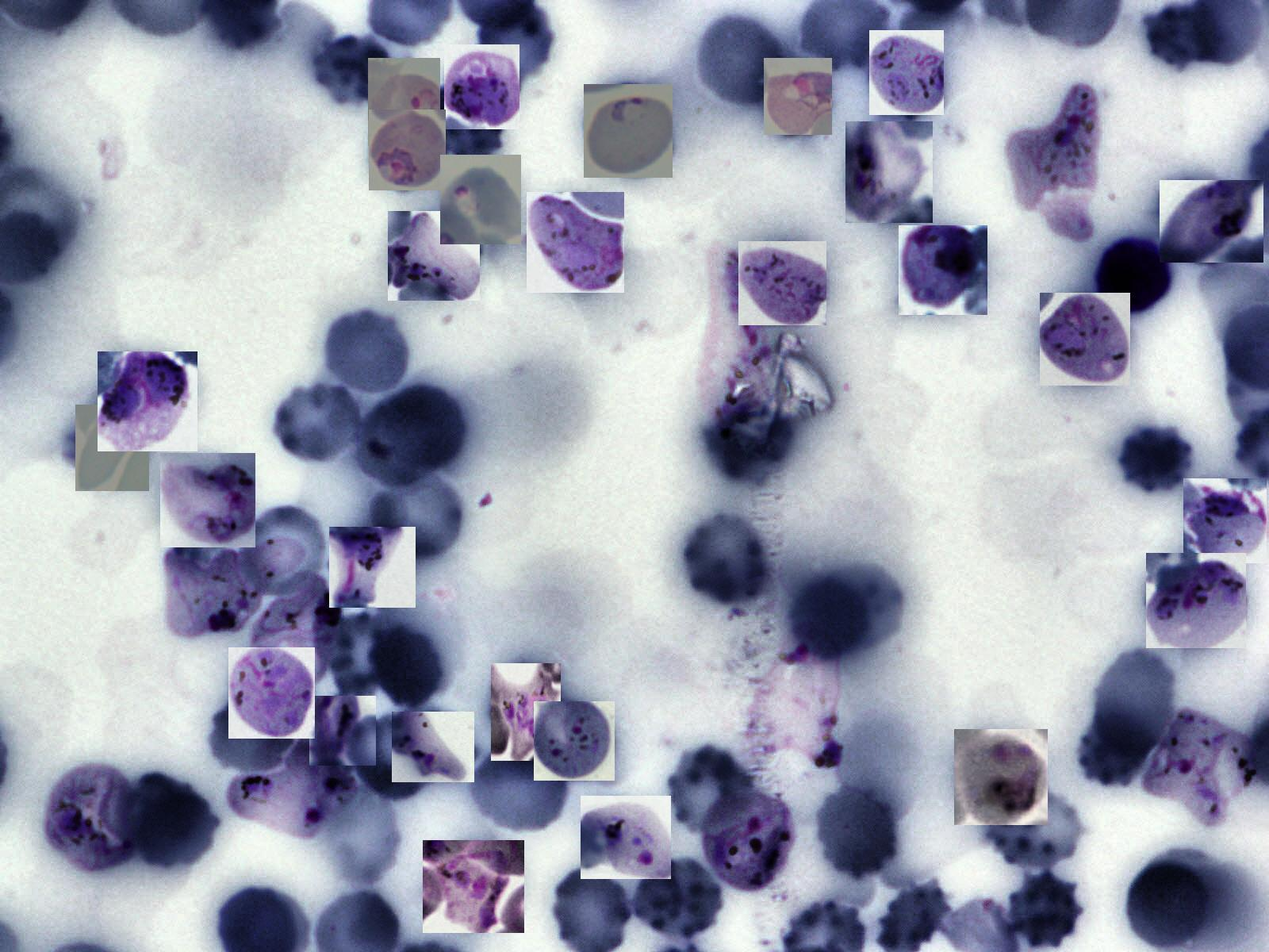Infected: (707, 243, 791, 424), (1006, 81, 1100, 237), (1141, 710, 1265, 827), (748, 624, 845, 771), (227, 741, 363, 842), (165, 541, 298, 643), (697, 784, 799, 896), (251, 570, 343, 693), (40, 766, 143, 875), (98, 351, 197, 451), (527, 192, 624, 293), (1146, 553, 1246, 648), (423, 840, 524, 933), (954, 729, 1048, 825), (845, 121, 933, 223), (160, 453, 255, 547), (1160, 180, 1263, 263), (1040, 293, 1130, 386), (584, 84, 673, 178), (388, 211, 480, 301), (228, 647, 315, 739), (899, 225, 987, 315), (581, 796, 671, 879), (738, 241, 826, 325), (440, 155, 521, 244), (1183, 478, 1267, 563), (329, 527, 416, 608), (491, 663, 561, 761), (534, 701, 615, 781), (869, 30, 944, 115), (75, 405, 149, 491), (444, 45, 519, 129), (369, 58, 440, 146), (369, 109, 446, 190), (392, 712, 474, 782), (764, 58, 832, 135), (309, 696, 376, 766)
Uninfected: (466, 740, 570, 839), (1093, 646, 1179, 761), (124, 771, 220, 873), (811, 782, 903, 881), (236, 501, 322, 605), (680, 509, 773, 604), (697, 10, 783, 112), (664, 744, 756, 839), (369, 470, 466, 559), (319, 307, 412, 399), (985, 789, 1086, 872), (271, 379, 366, 466), (634, 857, 727, 943), (352, 397, 439, 487), (204, 696, 297, 779), (379, 381, 471, 464), (1091, 231, 1175, 318), (1127, 862, 1210, 950), (788, 575, 870, 663), (1110, 421, 1197, 500), (366, 622, 445, 704), (1006, 869, 1085, 951), (1077, 710, 1157, 789), (327, 612, 396, 703), (354, 716, 427, 800), (424, 85, 505, 158), (315, 33, 392, 106), (586, 797, 667, 862)
